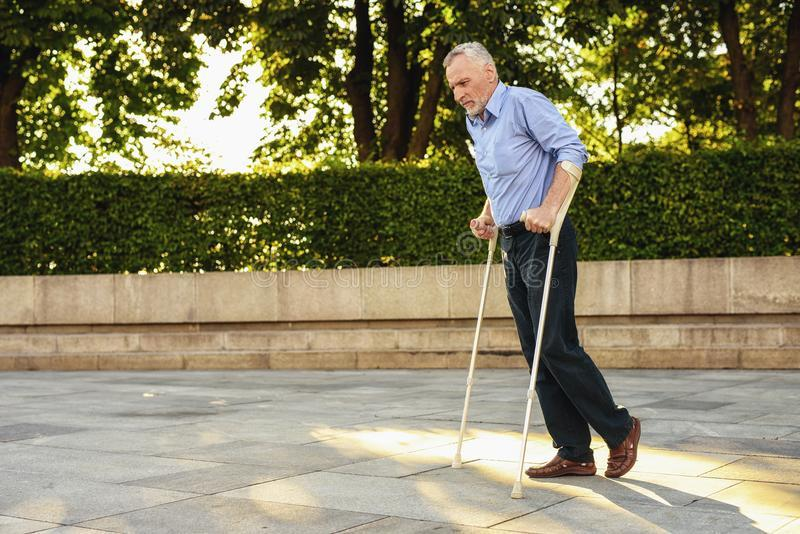crutches: (443, 41, 642, 501)
